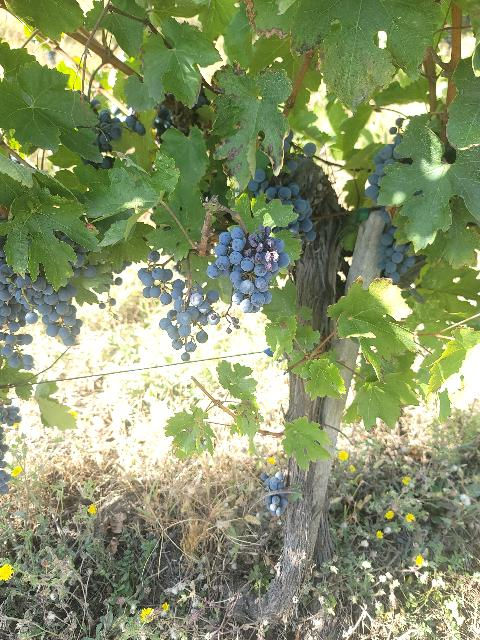grapes: (206, 226, 289, 312), (160, 280, 220, 360), (138, 250, 185, 305), (260, 471, 289, 516)
